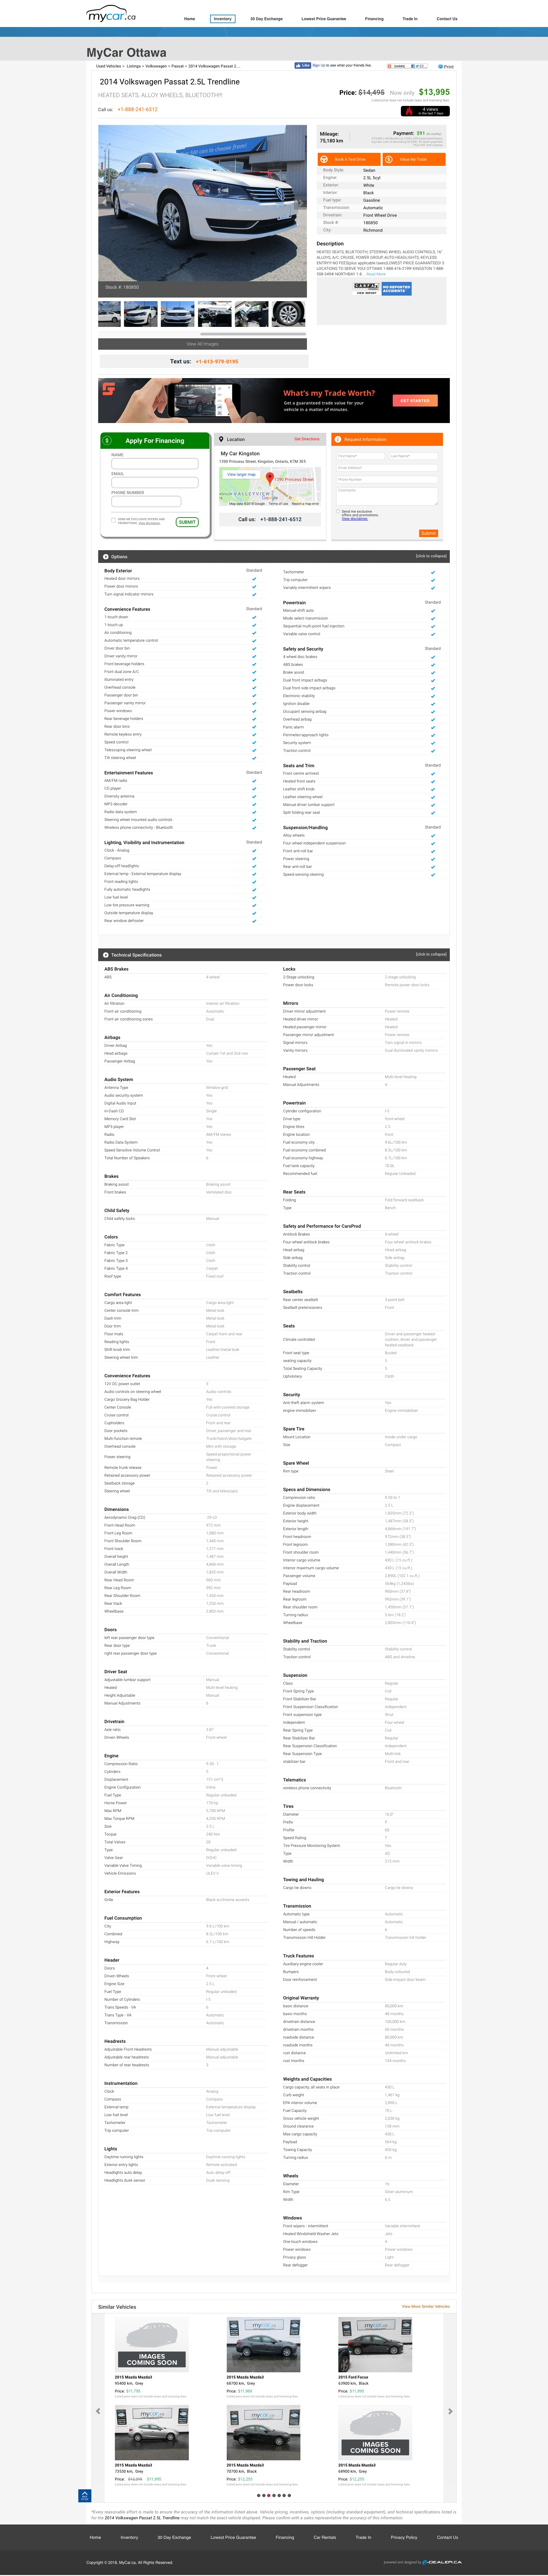car: (295, 195, 308, 210)
